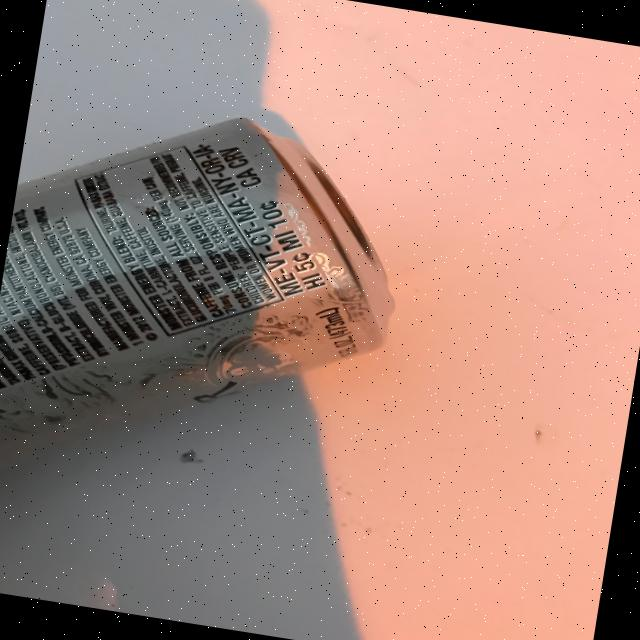metal: (0, 82, 423, 528)
